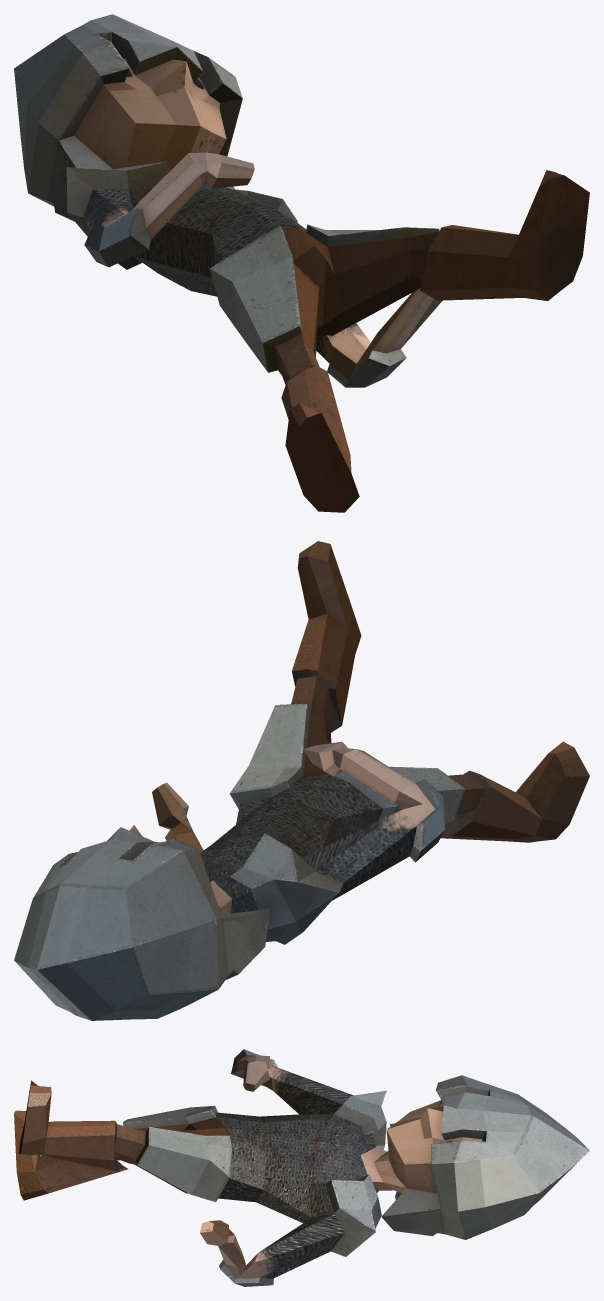
File: Walk_Soldier_15.obj
The picture shows the model from 3 angles, top to bottom: view 1: azimuth 30°, elevation 25°; view 2: azimuth 150°, elevation 25°; view 3: azimuth 270°, elevation 25°; orthographic projection. The views are drawn at different scales.
Parts seen in each view (by area): view 1: Soldado_LowPolySTD; view 2: Soldado_LowPolySTD; view 3: Soldado_LowPolySTD.
Part boxes in pixels (x1=…): Soldado_LowPolySTD: x1=14, y1=14, x2=589, y2=512; Soldado_LowPolySTD: x1=14, y1=541, x2=589, y2=1020; Soldado_LowPolySTD: x1=14, y1=1049, x2=589, y2=1286.
Size of the model in its own units: 0.7635 by 0.6558 by 1.58.
